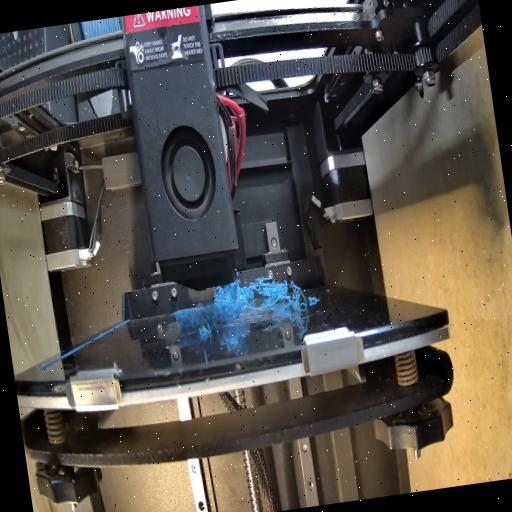spaghetti: (206, 274, 304, 324), (188, 304, 225, 340)
